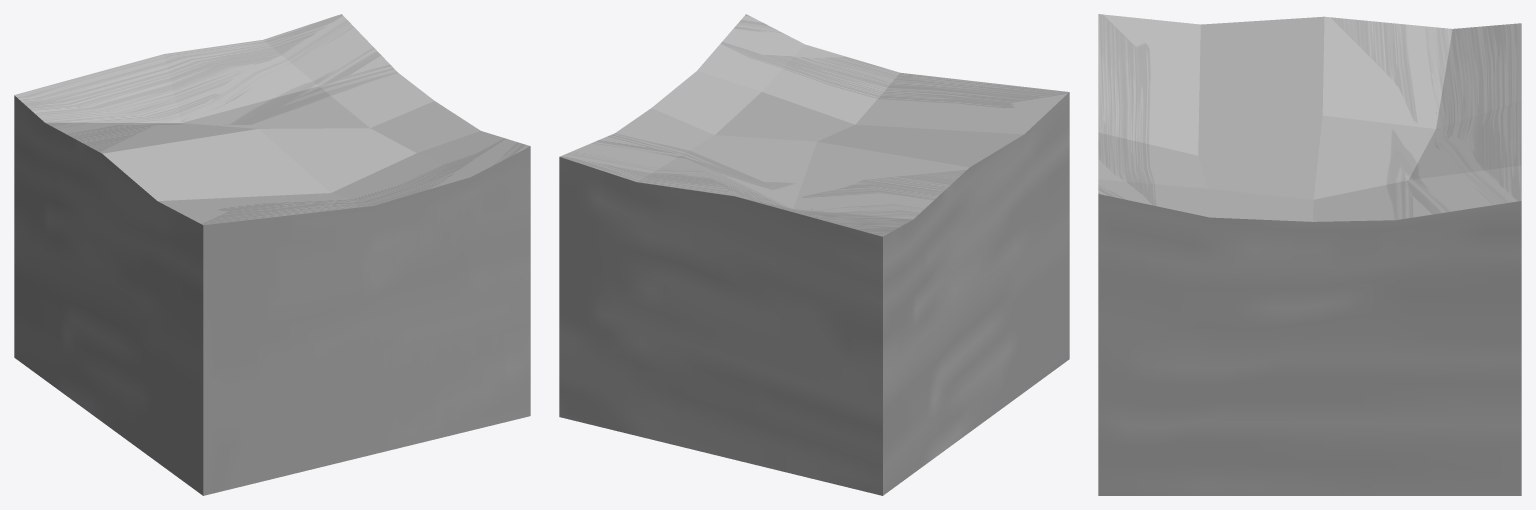
The model's file is KIRKIKPARCALAR1.fbx.
3 renders of one model, left to right at view 1: azimuth 30°, elevation 25°; view 2: azimuth 150°, elevation 25°; view 3: azimuth 270°, elevation 25°, orthographic. The views are drawn at different scales.
Parts seen in each view (by area): view 1: saglam_sutun.001; view 2: saglam_sutun.001; view 3: saglam_sutun.001.
Boxes of the visible parts, x1,y1,x2,y2 form: saglam_sutun.001: [14, 14, 530, 495]; saglam_sutun.001: [559, 14, 1069, 495]; saglam_sutun.001: [1098, 14, 1521, 495].
Bounding box in the file's own units: 1.84 × 1.46 × 1.84.
Materials: 1 (1 with a texture image).
